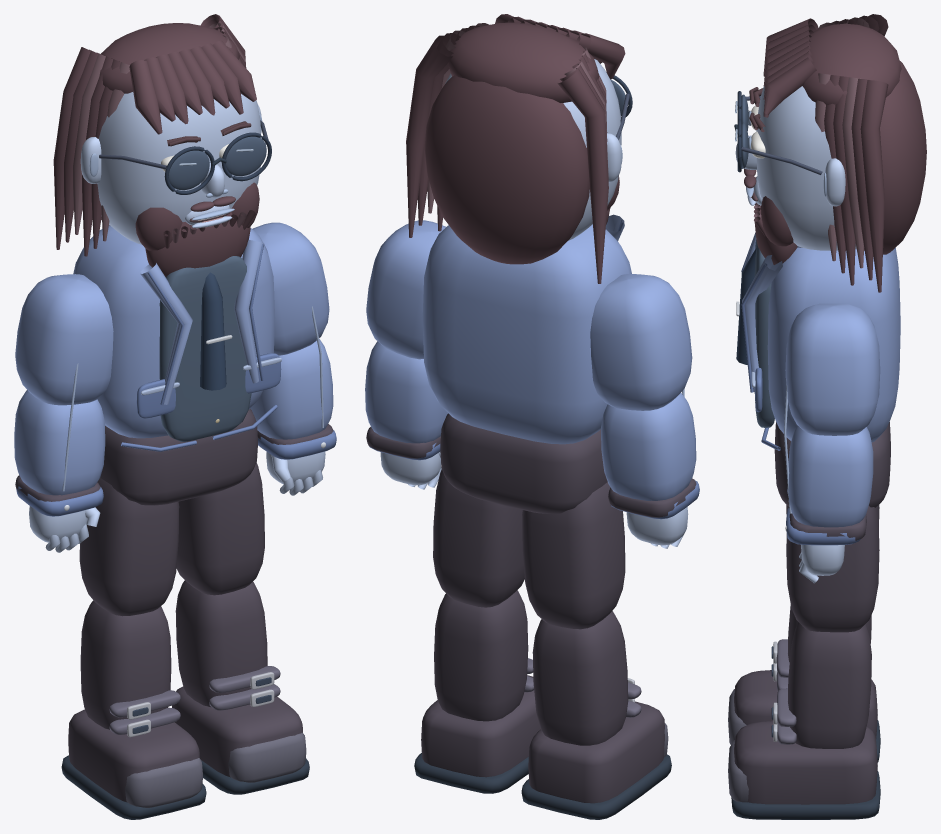
File: leader_hak_chompjak.glb
3 renders of one model, left to right at view 1: azimuth 30°, elevation 25°; view 2: azimuth 150°, elevation 25°; view 3: azimuth 270°, elevation 25°, orthographic. The views are drawn at different scales.
Visible parts, largest first — view 1: Puffer body, Face, R upperArm, R thigh, Waistcoat, Pants hips, R shin, L thigh, L shin, R lowerArm, L upperArm, R foot boot (+42 smaller); view 2: Puffer body, Long hair back, R upperArm, R thigh, Pants hips, R shin, L shin, L thigh, R foot boot, R lowerArm, Hair crown, L upperArm (+14 smaller); view 3: Puffer body, L upperArm, L shin, L foot boot, Face, L lowerArm, L thigh, Long hair back, Hair crown, Long hair layered strand 15, Boot sole 1, R foot boot (+23 smaller).
Part boxes in pixels (bbox=[...]): Puffer body: bbox=[73, 225, 275, 438]; Face: bbox=[97, 92, 261, 244]; R upperArm: bbox=[15, 274, 113, 405]; R thigh: bbox=[79, 477, 179, 616]; Waistcoat: bbox=[159, 256, 252, 441]; Pants hips: bbox=[100, 409, 257, 505]; R shin: bbox=[80, 600, 171, 729]; L thigh: bbox=[176, 462, 264, 595]; L shin: bbox=[175, 580, 267, 706]; R lowerArm: bbox=[14, 390, 105, 495]; L upperArm: bbox=[252, 222, 329, 355]; R foot boot: bbox=[68, 709, 199, 802]; Puffer body: bbox=[422, 224, 631, 444]; Long hair back: bbox=[424, 75, 589, 264]; R upperArm: bbox=[590, 274, 692, 410]; R thigh: bbox=[522, 482, 625, 629]; Pants hips: bbox=[440, 413, 607, 513]; R shin: bbox=[532, 611, 628, 745]; L shin: bbox=[434, 590, 528, 721]; L thigh: bbox=[433, 469, 524, 607]; R foot boot: bbox=[528, 701, 664, 803]; R lowerArm: bbox=[601, 393, 696, 500]; Hair crown: bbox=[448, 22, 599, 102]; L upperArm: bbox=[366, 220, 445, 359]; Puffer body: bbox=[767, 247, 900, 442]; L upperArm: bbox=[785, 303, 880, 435]; L shin: bbox=[788, 622, 871, 748]; L foot boot: bbox=[734, 721, 877, 804]; Face: bbox=[756, 86, 856, 250]; L lowerArm: bbox=[787, 425, 873, 527]; L thigh: bbox=[786, 506, 879, 632]; Long hair back: bbox=[864, 61, 926, 254]; Hair crown: bbox=[802, 23, 901, 104]; Long hair layered strand 15: bbox=[860, 80, 888, 292]; Boot sole 1: bbox=[731, 771, 880, 819]; R foot boot: bbox=[734, 670, 877, 738].
Bounding box in the file's own units: 1.81 × 4.21 × 1.03.
